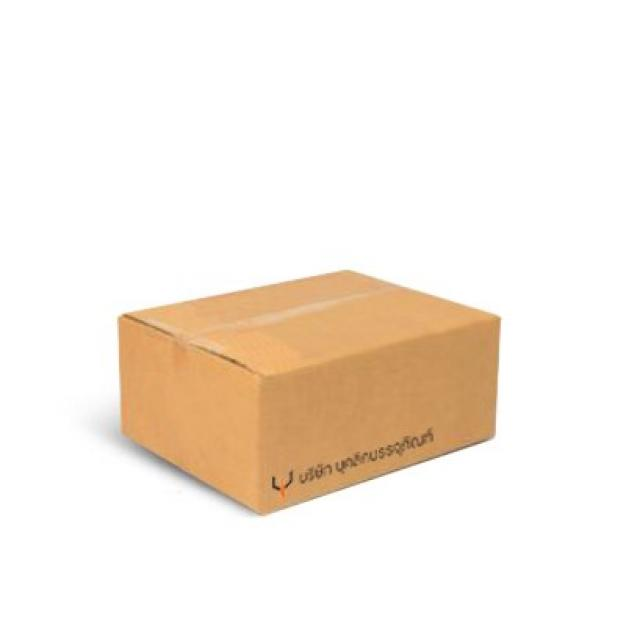box: (81, 256, 521, 522)
